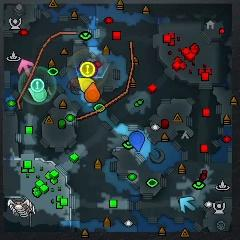Other: (80, 62, 95, 77), (31, 78, 44, 91)
p1: (129, 131, 145, 151)
p2: (27, 87, 47, 103)
p3: (77, 63, 98, 76)
p4: (78, 77, 95, 93)
p5: (85, 82, 99, 102)
x1: (18, 60, 34, 75)
x3: (178, 197, 196, 213)
